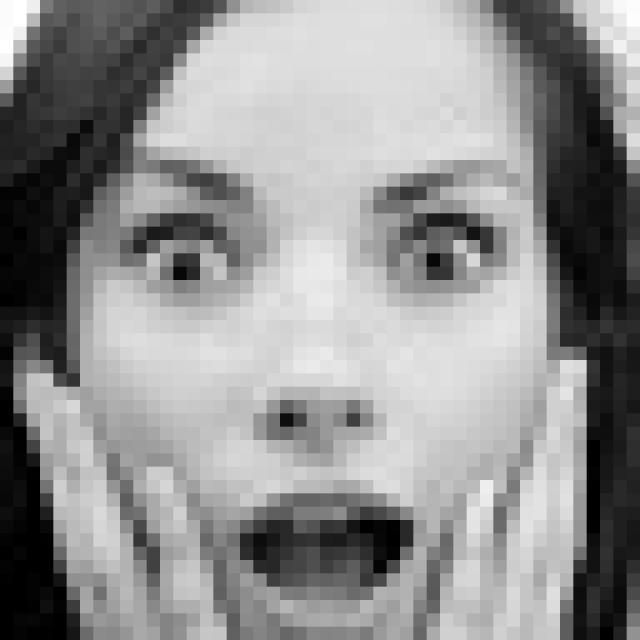surprise: (107, 131, 534, 640)
